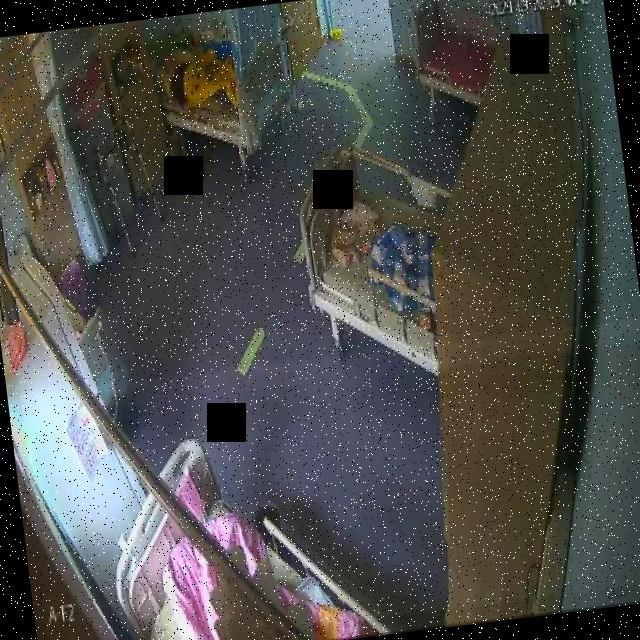bed: (99, 421, 356, 640), (289, 132, 452, 388), (152, 21, 292, 162), (395, 0, 497, 103)
walker: (88, 110, 172, 264)
